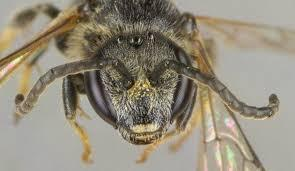Lasioglossum: (17, 0, 288, 167)
